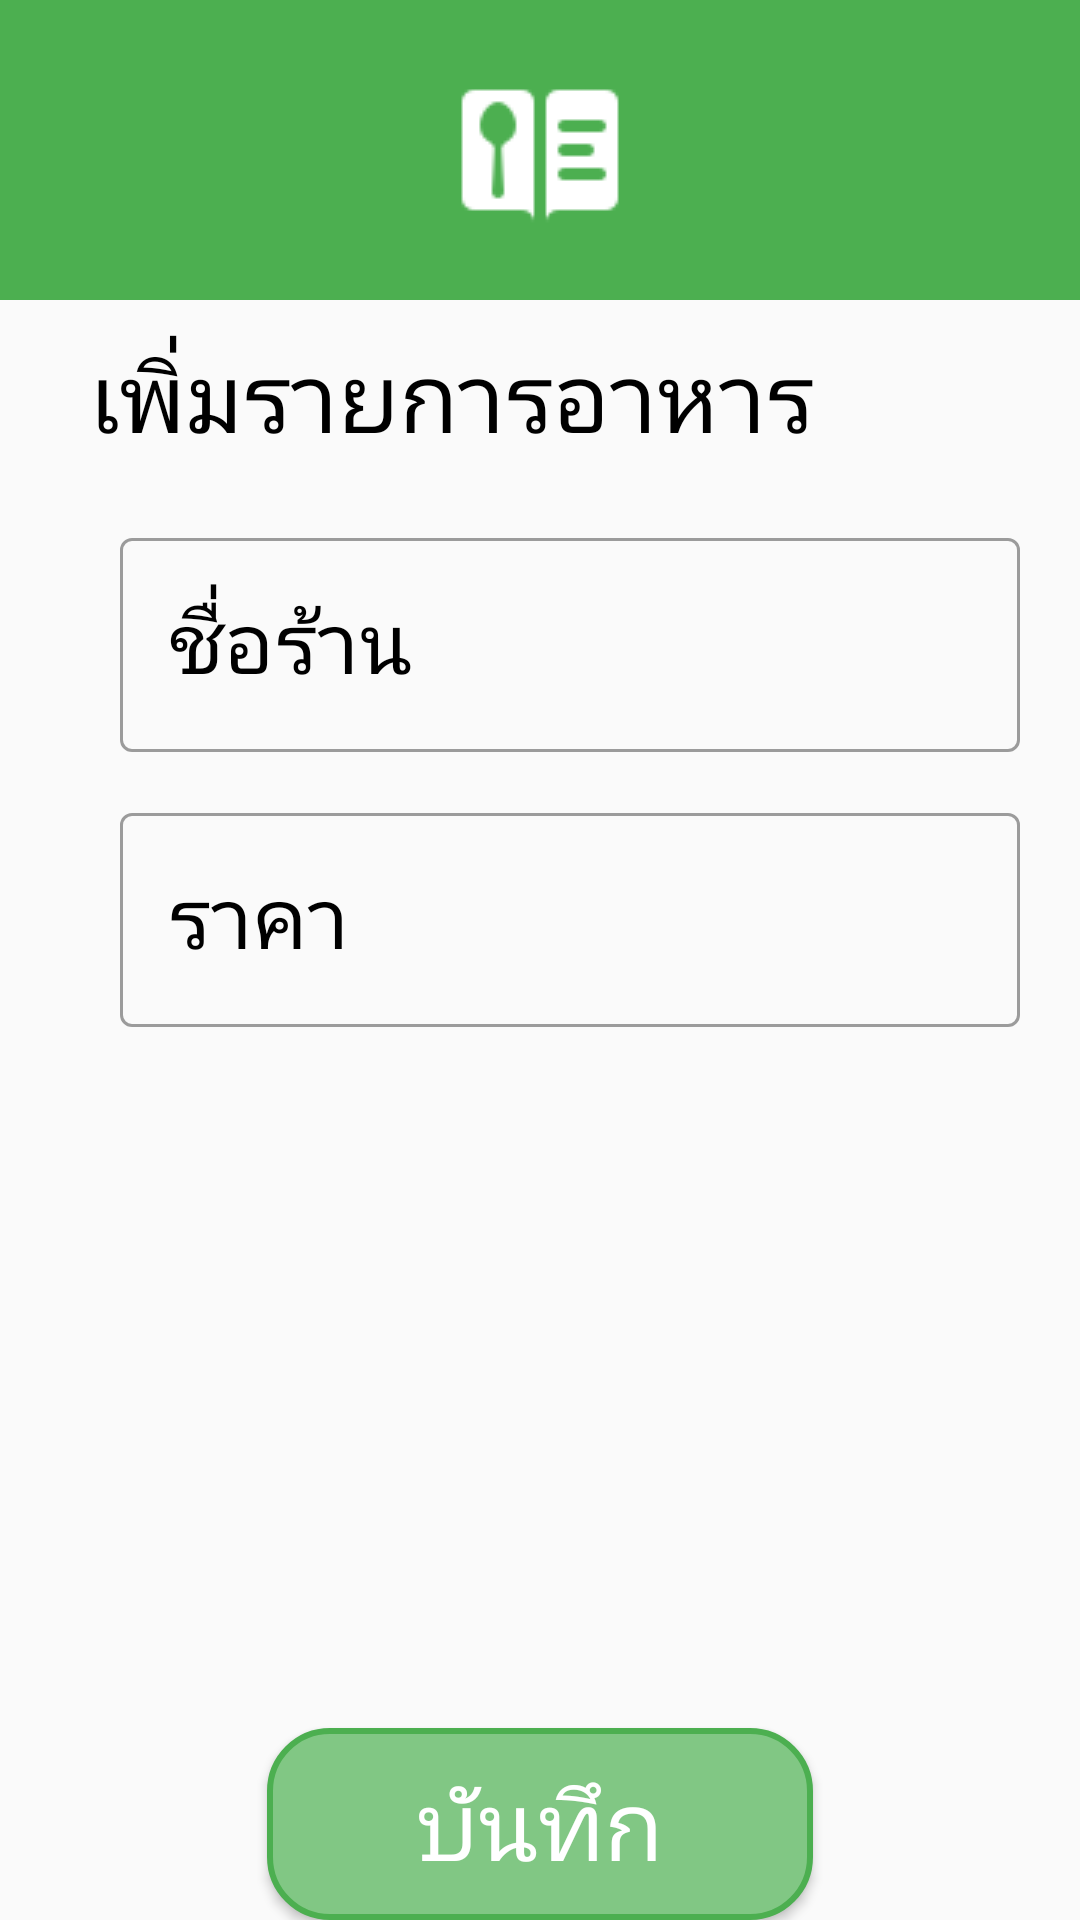

Icons on this 1080 x 1920 Android screen, each with the point to tap as (x,y):
restaurant menu: (540,154)
